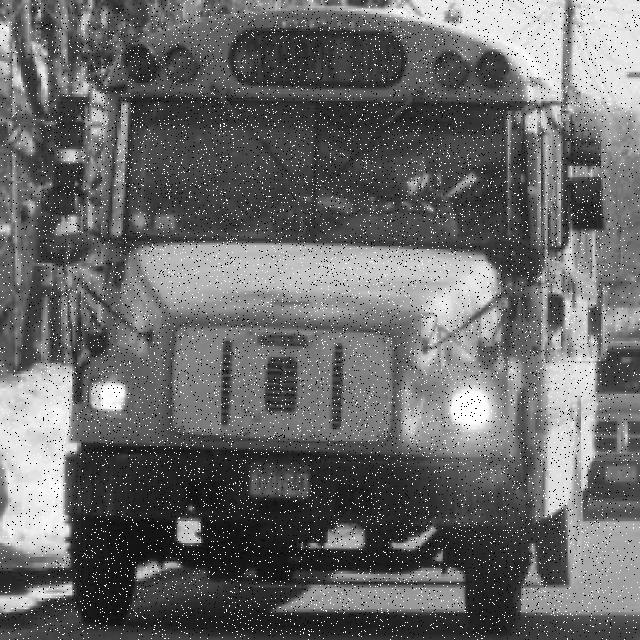Bus: (42, 8, 612, 635)
